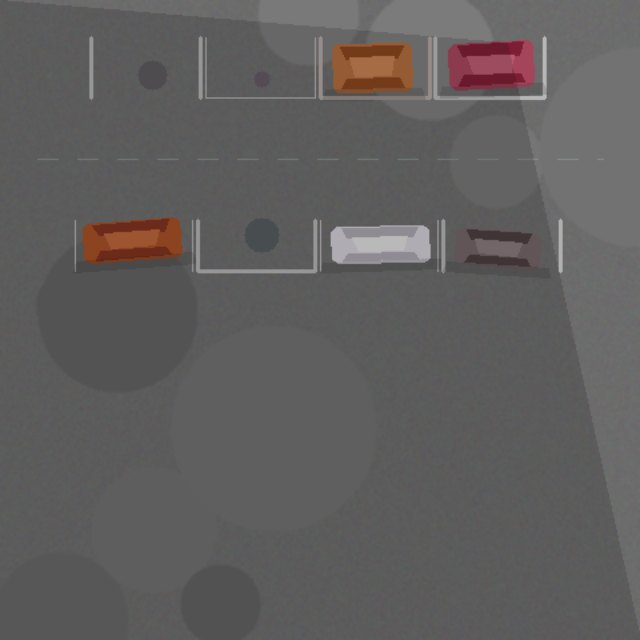space-empty: (205, 37, 315, 97), (91, 37, 200, 97), (197, 220, 315, 271)
space-occupied: (320, 37, 429, 97), (435, 37, 544, 97), (75, 220, 192, 271), (320, 220, 437, 271), (443, 220, 560, 271)
